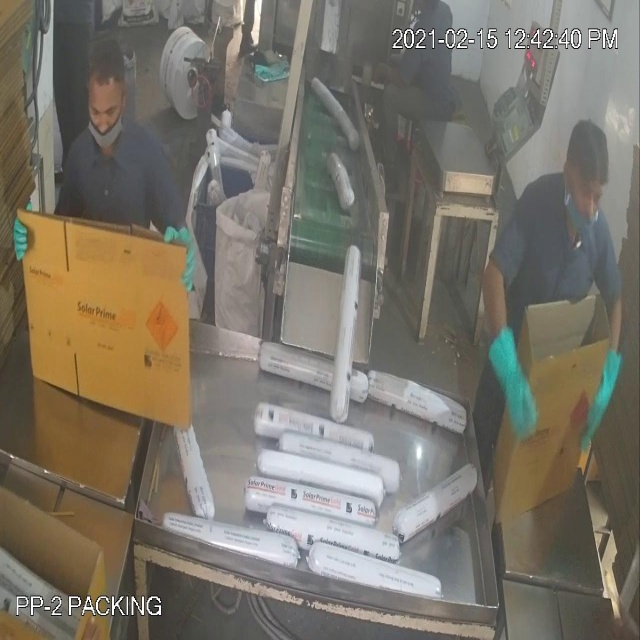Guantes: (483, 320, 542, 449), (583, 340, 624, 463), (368, 53, 417, 100)
